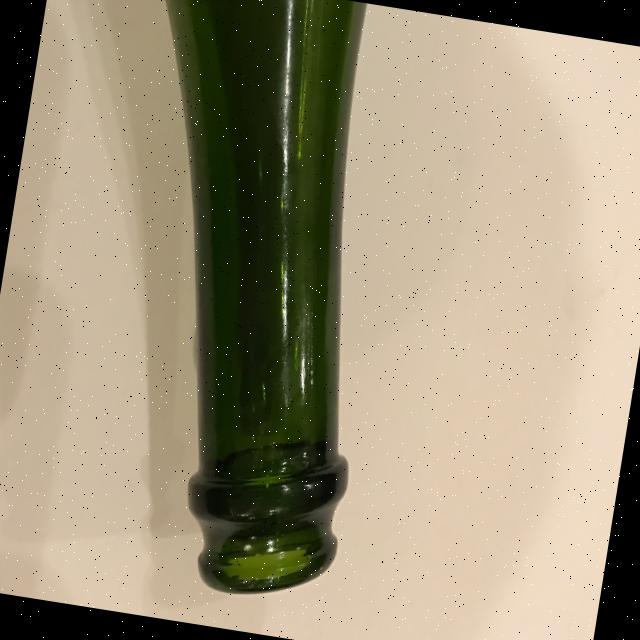glass: (63, 0, 424, 609)
